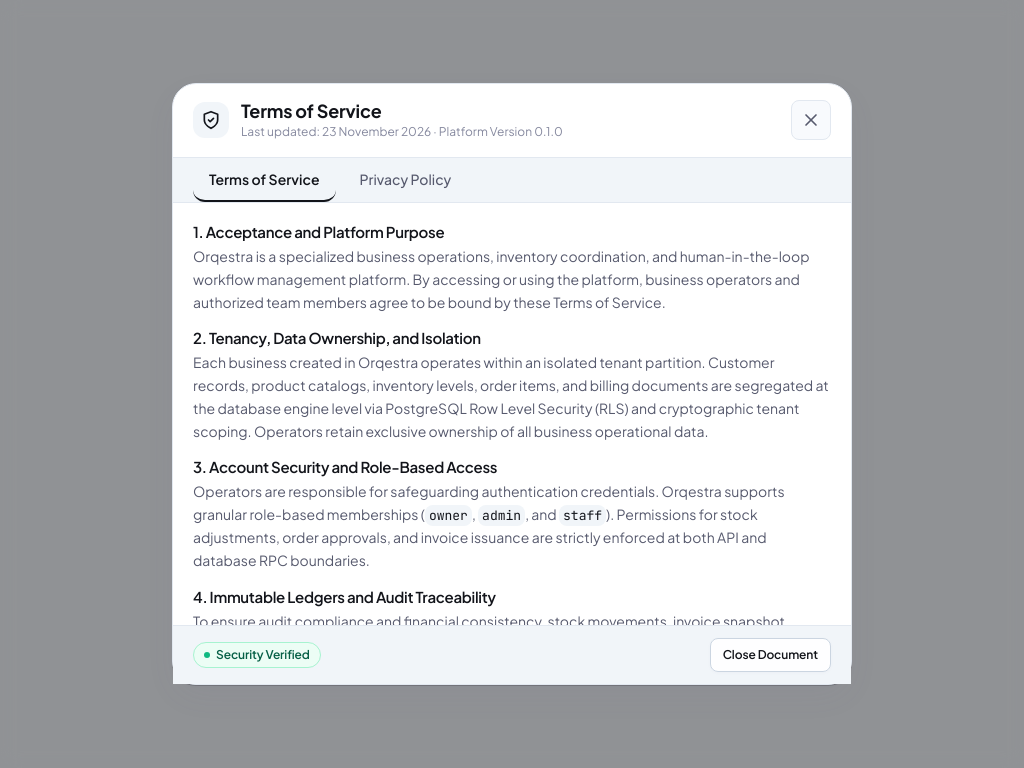
Scenario: LegalModal Component (Legal & Launch Essentials) › switches to Privacy Policy tab when clicked
This screenshot has width=1024, height=768.
Step 1. Click the tab "Privacy Policy" → point(405, 180), box [344,158,467,202]
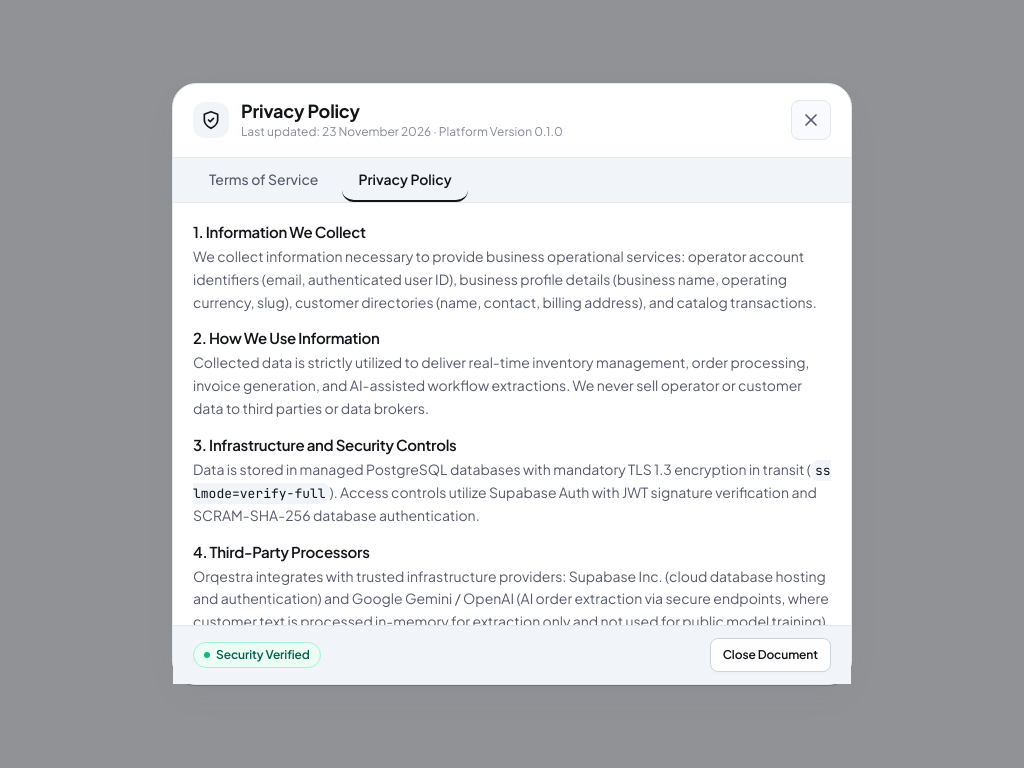
Result: the heading "Privacy Policy" is shown at [241,98,360,122]
Result: the text "We collect information necessary to provide business operational services" is shown at [193,247,817,311]
